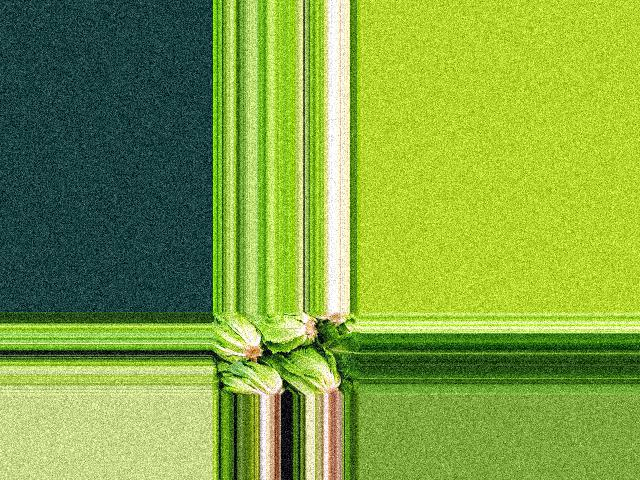lettuce: (326, 332, 361, 366)
